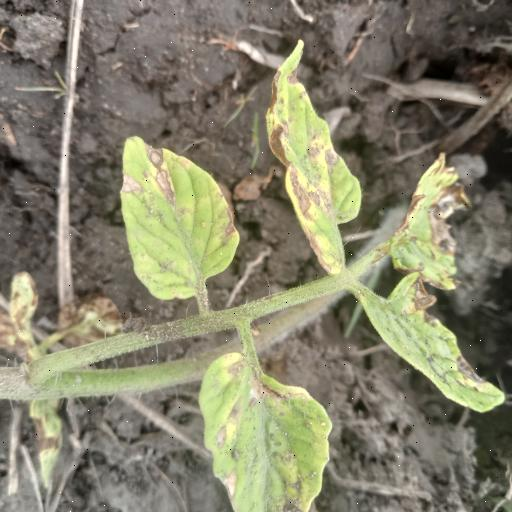Tomato_Brown_Spots: (263, 37, 365, 276), (200, 340, 334, 512), (117, 128, 243, 305), (355, 281, 510, 415)
